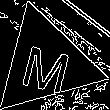M_N: (17, 33, 75, 93)
